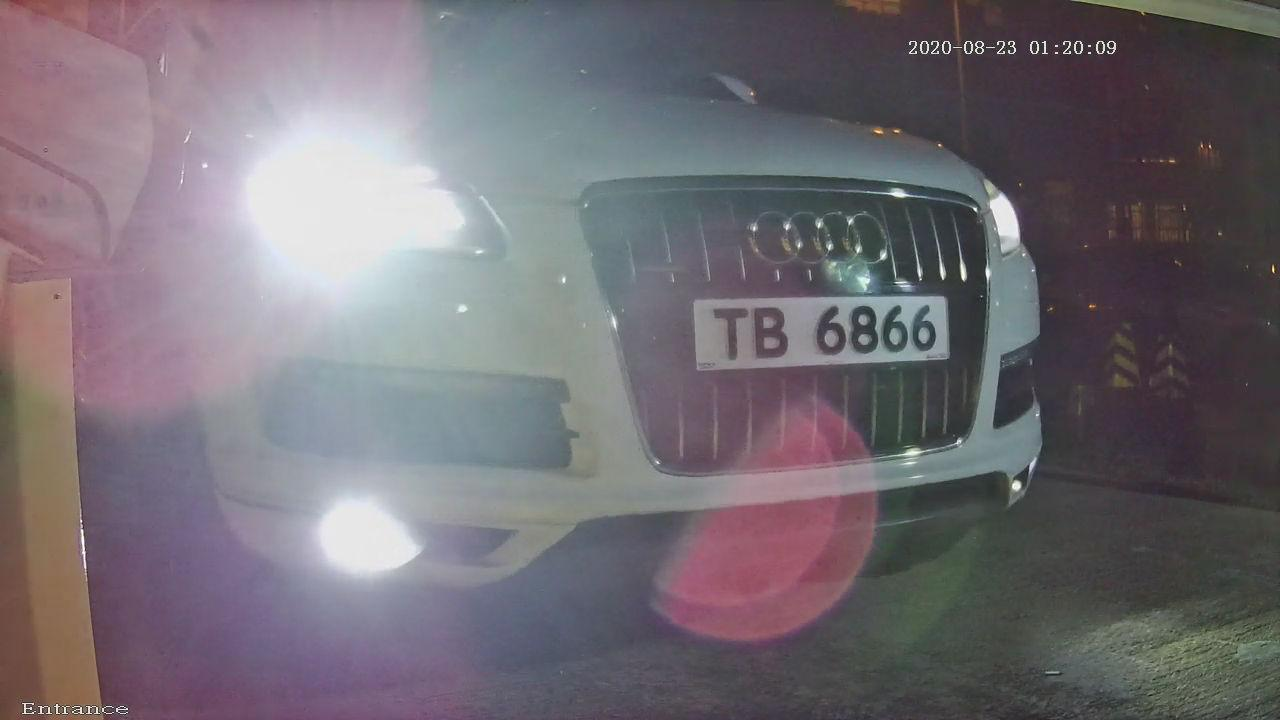License Plate: (611, 239, 992, 427)
